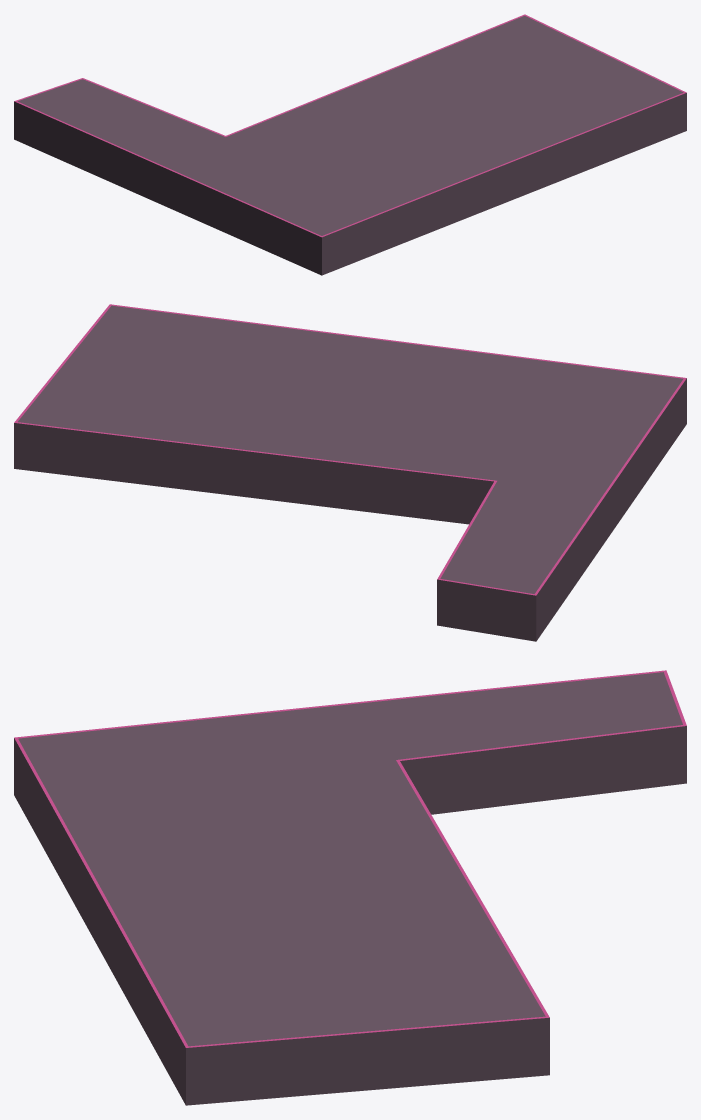
Rendered from way-205661092.glb.
The picture shows the model from 3 angles, top to bottom: view 1: azimuth 30°, elevation 25°; view 2: azimuth 150°, elevation 25°; view 3: azimuth 270°, elevation 25°; orthographic projection. The views are drawn at different scales.
Parts seen in each view (by area): view 1: way-205661092; view 2: way-205661092; view 3: way-205661092.
Boxes of the visible parts, <box> form: way-205661092: <box>14,14,686,275</box>; way-205661092: <box>14,304,686,641</box>; way-205661092: <box>14,670,686,1105</box>.
Bounding box in the file's own units: 42.19 × 3 × 31.77.
